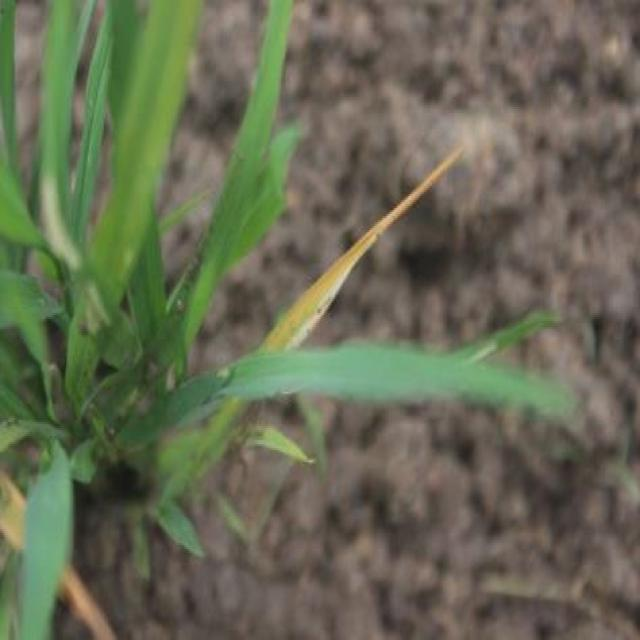Tungro: (266, 126, 476, 366)
